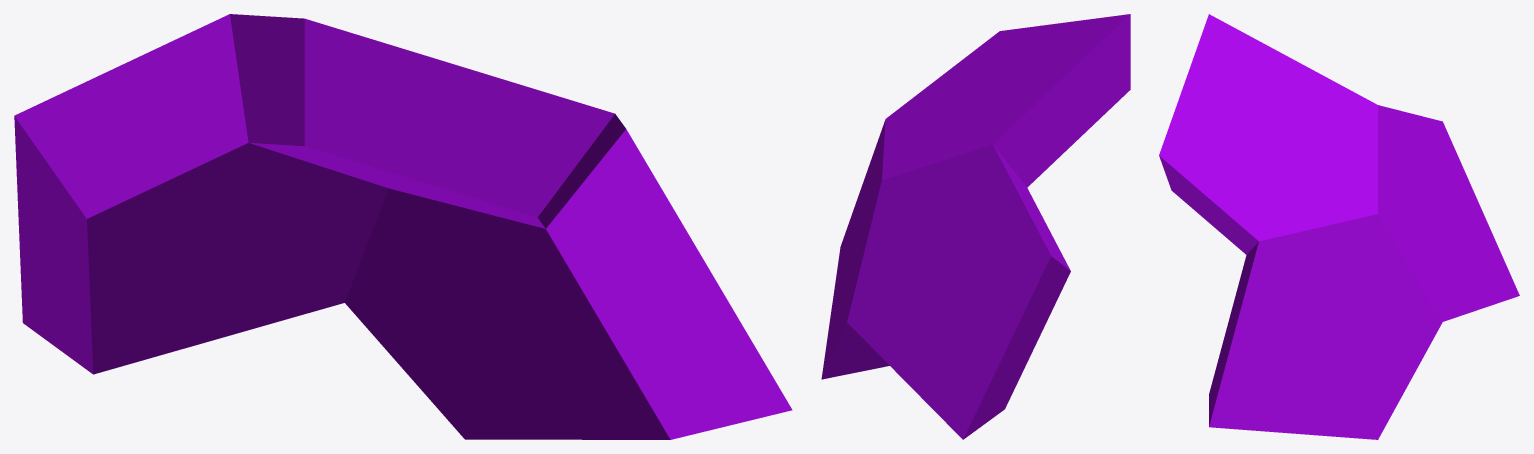
File: piece5.glb
The picture shows the model from 3 angles, left to right: view 1: azimuth 30°, elevation 25°; view 2: azimuth 150°, elevation 25°; view 3: azimuth 270°, elevation 25°; orthographic projection. The views are drawn at different scales.
Visible parts, largest first — view 1: piece_A_5; view 2: piece_A_5; view 3: piece_A_5.
Boxes of the visible parts, <box> form: piece_A_5: <box>14,14,792,439</box>; piece_A_5: <box>821,14,1130,439</box>; piece_A_5: <box>1159,14,1519,439</box>.
Size of the model in its own units: 2.66 by 2.66 by 2.66.
